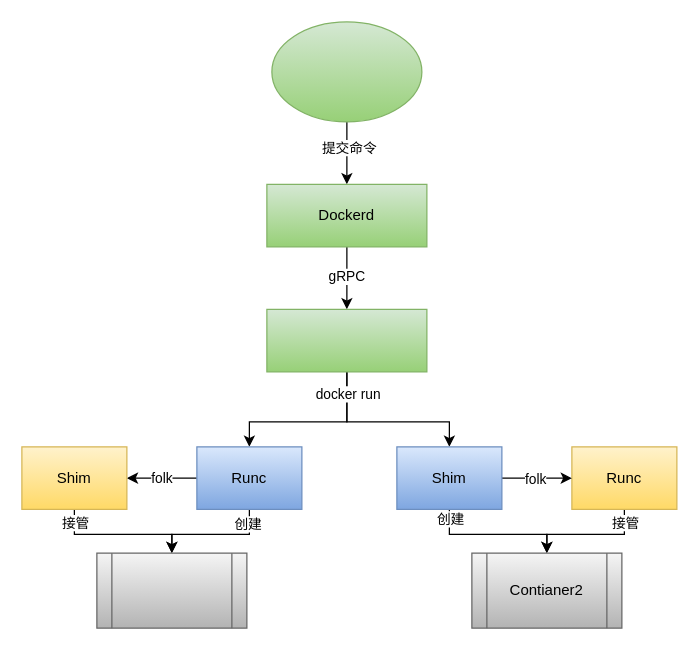
This 699x650 diagram has some shape labels left out. Each missing label, with the centre of its shape:
Contianer1: (171,590)
Contianerd: (346,340)
Docker Client: (346,71)
